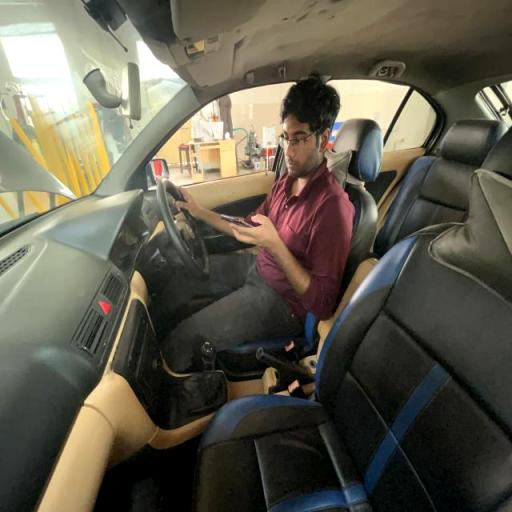Texting_on_phone: (172, 78, 354, 339)
